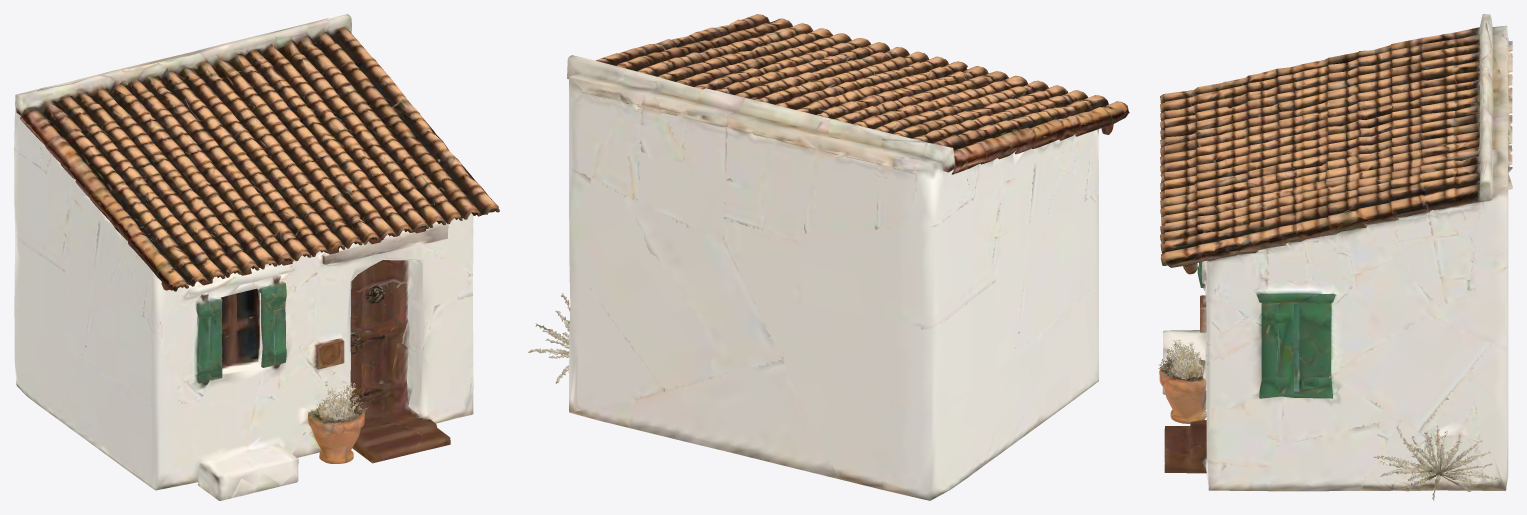
The model's file is house-iberian-village-opt.glb.
The picture shows the model from 3 angles, left to right: view 1: azimuth 30°, elevation 25°; view 2: azimuth 150°, elevation 25°; view 3: azimuth 270°, elevation 25°; orthographic projection. The views are drawn at different scales.
Visible parts, largest first — view 1: Mesh_0; view 2: Mesh_0; view 3: Mesh_0.
Boxes of the visible parts, left/top/right/bottom form: Mesh_0: left=14, top=14, right=499, bottom=500; Mesh_0: left=528, top=14, right=1129, bottom=500; Mesh_0: left=1158, top=14, right=1512, bottom=500.
Size of the model in its own units: 3.31 by 2.5 by 2.52.
Materials: 1 (1 with a texture image).
